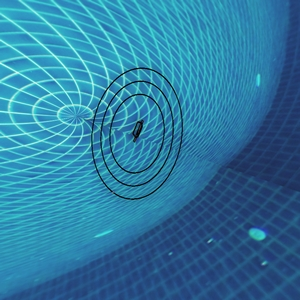circle: (82, 62, 188, 202)
submarine: (135, 122, 145, 139)
